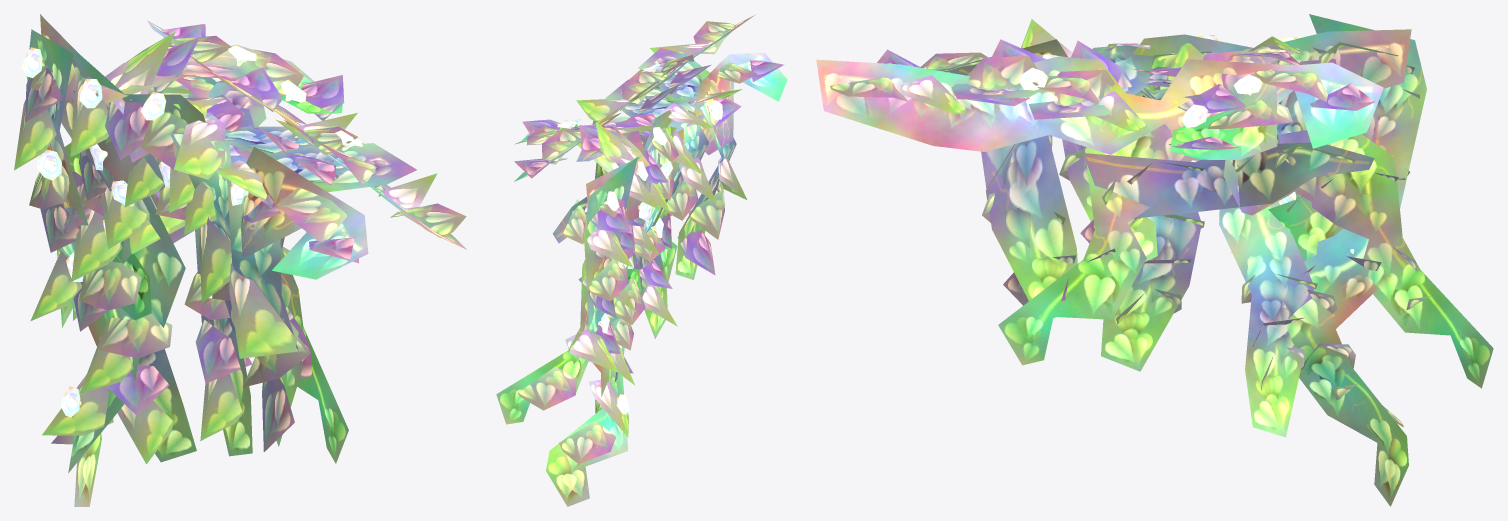
The model's file is moonflower_06_SM.fbx.
3 renders of one model, left to right at view 1: azimuth 30°, elevation 25°; view 2: azimuth 150°, elevation 25°; view 3: azimuth 270°, elevation 25°, orthographic. The views are drawn at different scales.
Visible parts, largest first — view 1: moonflower_06_SM_LOD0; view 2: moonflower_06_SM_LOD0; view 3: moonflower_06_SM_LOD0.
Part boxes in pixels (<box>): moonflower_06_SM_LOD0: <box>14,14,466,506</box>; moonflower_06_SM_LOD0: <box>496,14,787,506</box>; moonflower_06_SM_LOD0: <box>816,14,1493,506</box>.
Bounding box in the file's own units: 215 × 549 × 430.
2 materials, 2 textured.
